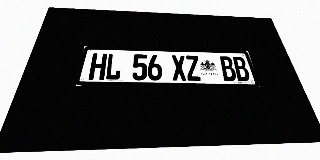5: (132, 54, 147, 80)
6: (148, 54, 162, 80)
B: (231, 56, 251, 81), (219, 56, 238, 81)
H: (88, 53, 107, 80)
L: (104, 54, 122, 80)
X: (171, 55, 187, 81)
Z: (185, 55, 202, 81)
